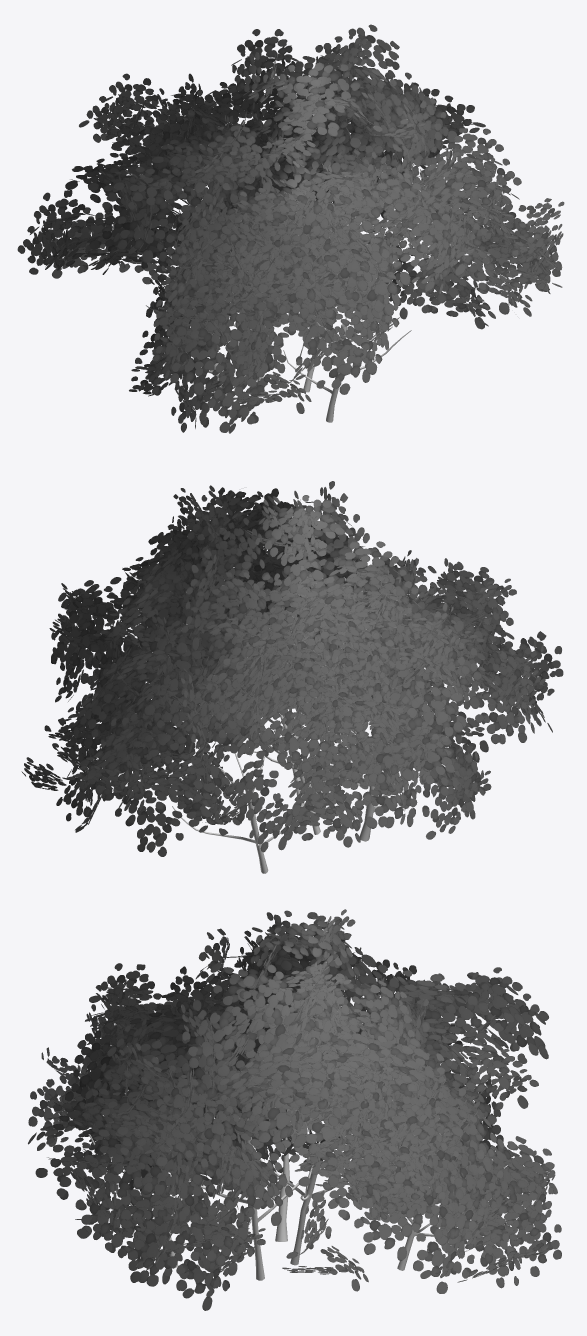
The model's file is SM_Bush_01.fbx.
3 views of the same model, one above another, from view 1: azimuth 30°, elevation 25°; view 2: azimuth 150°, elevation 25°; view 3: azimuth 270°, elevation 25° (orthographic). The views are drawn at different scales.
Parts seen in each view (by area): view 1: SM_Bush_01_LOD0; view 2: SM_Bush_01_LOD0; view 3: SM_Bush_01_LOD0.
Boxes of the visible parts, box(x1,y1,x2,y2) form: SM_Bush_01_LOD0: box(17, 24, 564, 433); SM_Bush_01_LOD0: box(21, 481, 563, 873); SM_Bush_01_LOD0: box(28, 909, 561, 1310).
Size of what is drawn, in the model's own units: 3.13 by 2.43 by 3.28.
